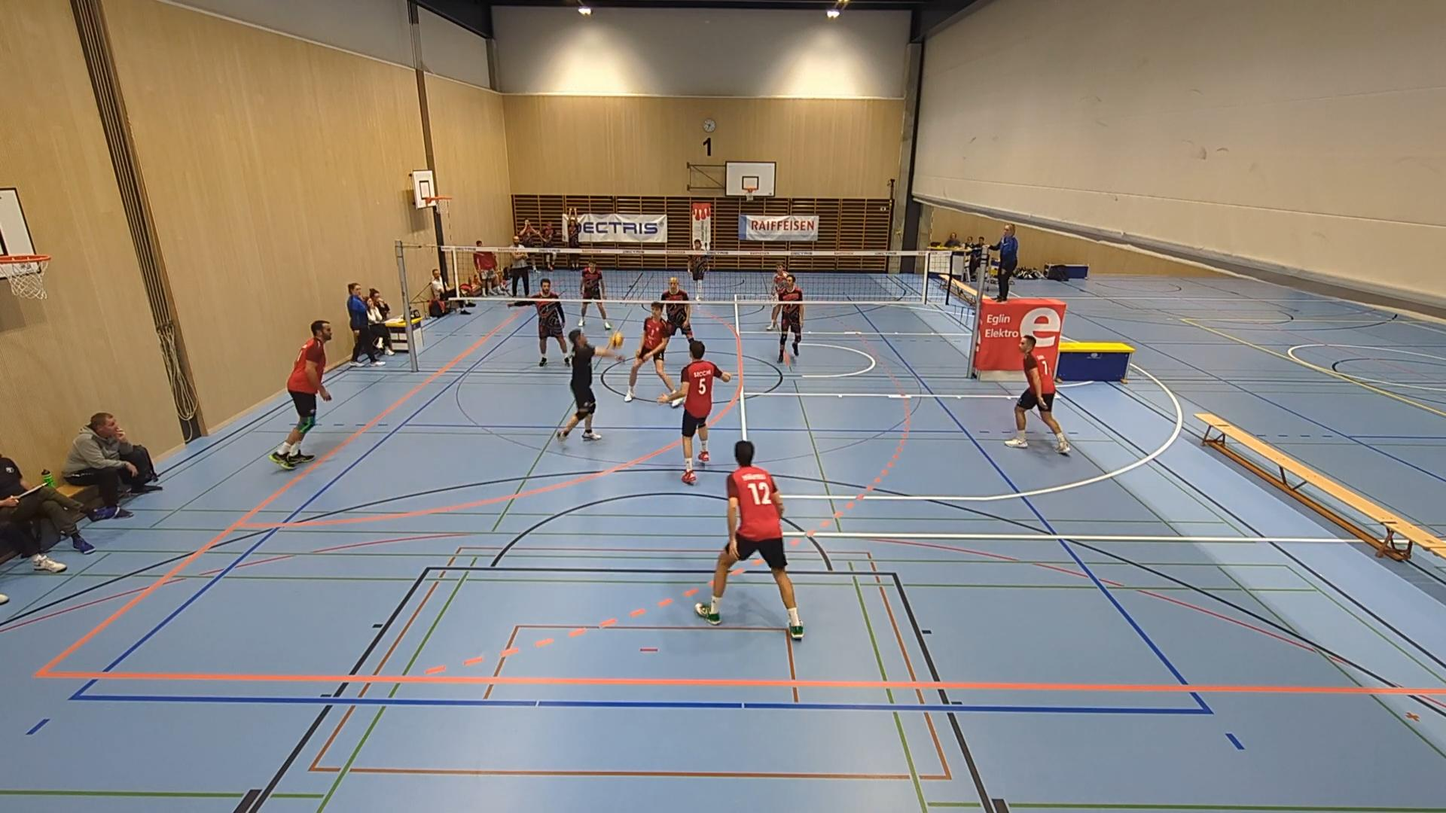Player: (695, 440, 804, 640), (657, 342, 730, 484), (270, 320, 331, 470), (1005, 335, 1070, 453), (508, 279, 566, 366), (624, 302, 674, 401), (778, 274, 804, 362), (578, 261, 612, 328), (660, 277, 693, 340), (688, 239, 710, 299), (773, 263, 788, 300)
Set: (563, 330, 627, 446)
ball: (609, 330, 626, 349)
